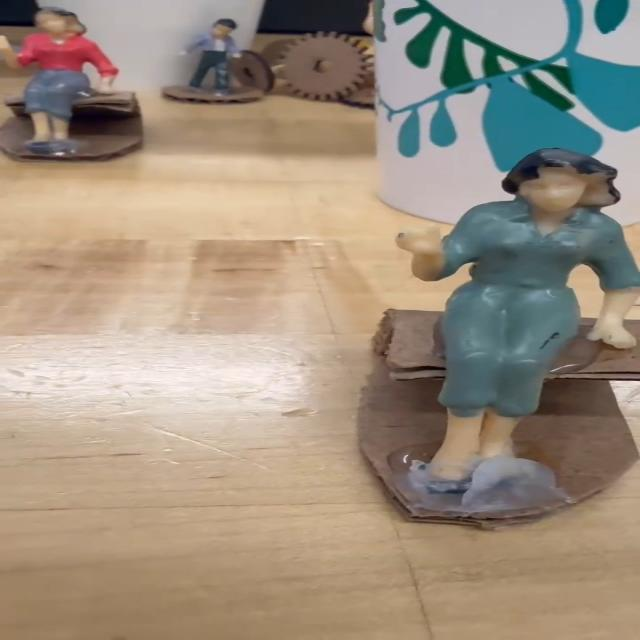Authorized: (386, 144, 640, 487)
